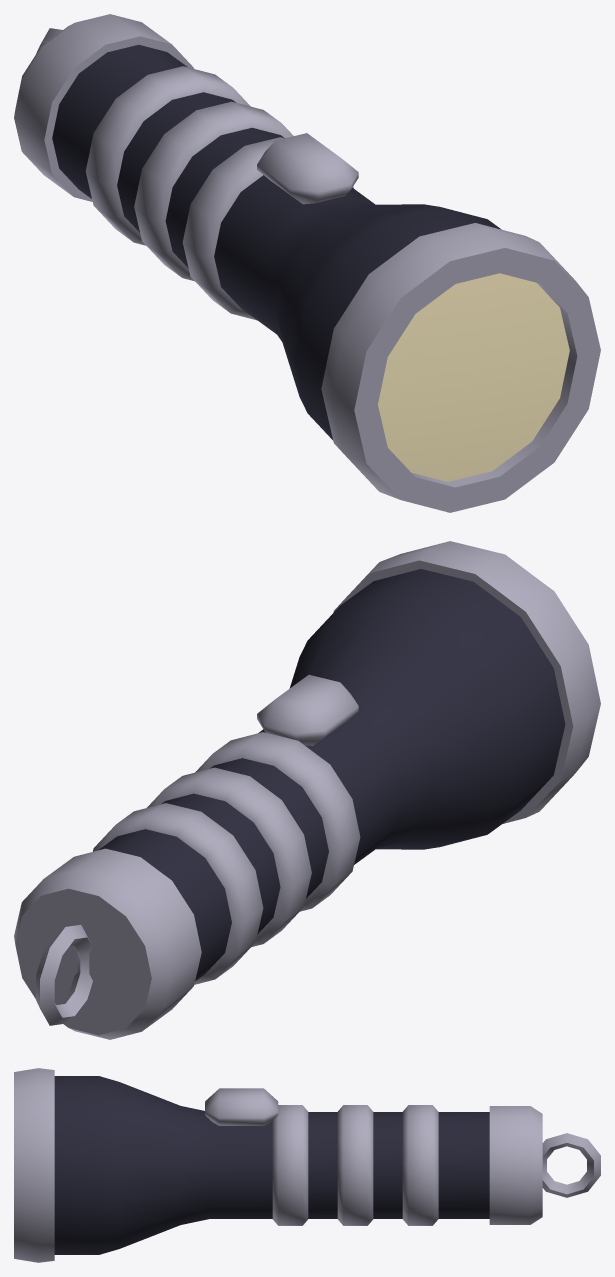
Rendered from Cosmetic_Flashlight.fbx.
3 views of the same model, one above another, from view 1: azimuth 30°, elevation 25°; view 2: azimuth 150°, elevation 25°; view 3: azimuth 270°, elevation 25° (orthographic). The views are drawn at different scales.
Parts seen in each view (by area): view 1: Body, Grip, Bezel, Lens; view 2: Body, Grip, Bezel; view 3: Body, Grip, Bezel.
Boxes of the visible parts, x1,y1,x2,y2 form: Body: (52, 44, 501, 439); Grip: (14, 14, 358, 320); Bezel: (321, 223, 600, 512); Lens: (378, 273, 569, 481); Body: (98, 569, 565, 981); Grip: (14, 674, 360, 1039); Bezel: (333, 541, 600, 823); Body: (54, 1076, 489, 1254); Grip: (205, 1088, 600, 1225); Bezel: (14, 1068, 54, 1262).
Size of the model in its own units: 49 by 47.77 by 144.
